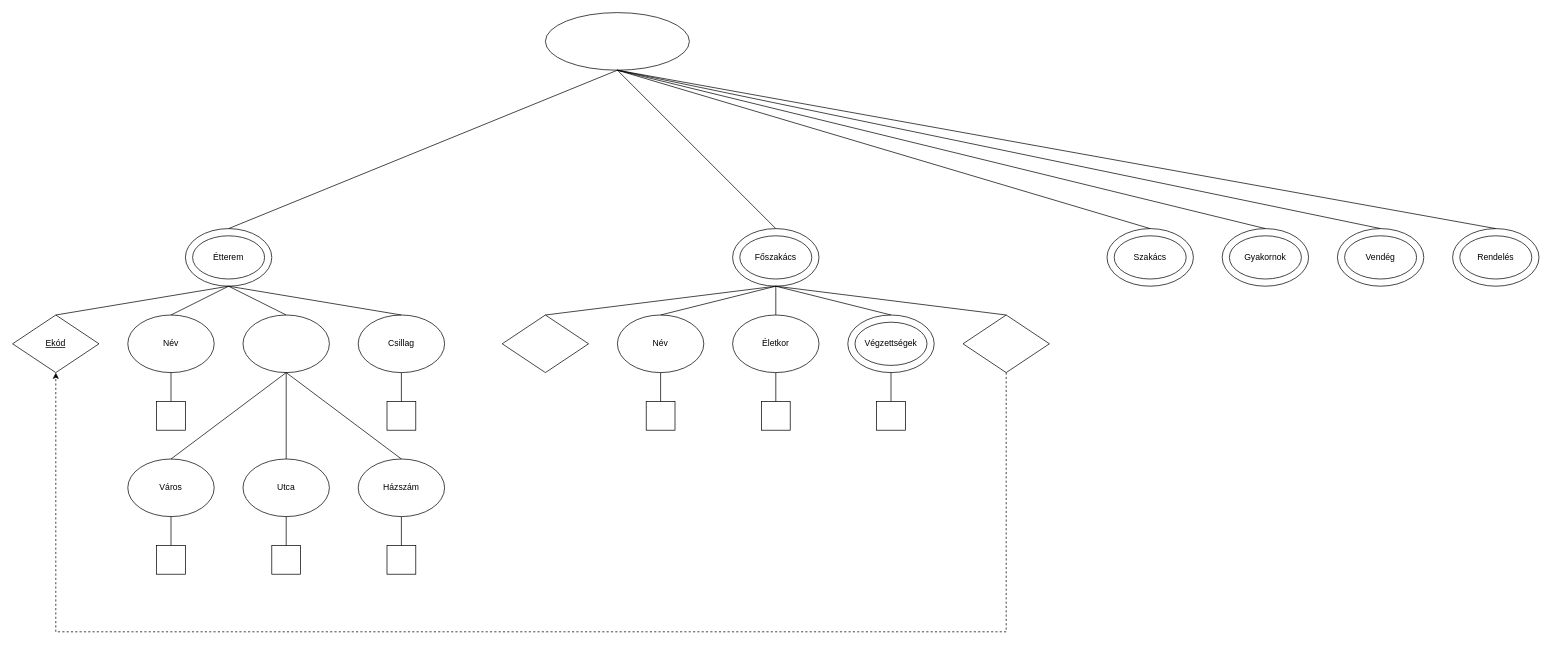
Some shapes in this 1552 by 650 pixel diagram are drawn without their labels. Each missing label, with the centre of its shape:
"Cím" goes at (x=285, y=343).
"E-F" goes at (x=1005, y=343).
"Fkód" goes at (x=545, y=343).
"Vendéglátás" goes at (x=617, y=41).
